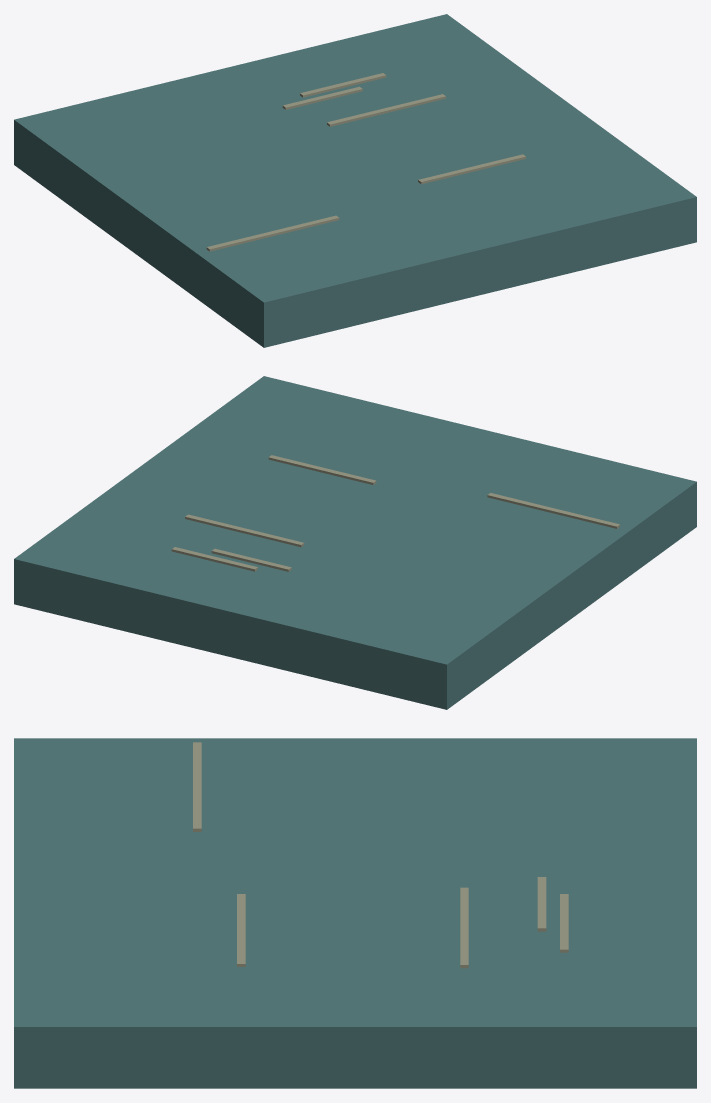
Rendered from ENV_Tile_03_River.glb.
3 views of the same model, one above another, from view 1: azimuth 30°, elevation 25°; view 2: azimuth 150°, elevation 25°; view 3: azimuth 270°, elevation 25° (orthographic). The views are drawn at different scales.
Parts seen in each view (by area): view 1: ENV_Tile_03_River; view 2: ENV_Tile_03_River; view 3: ENV_Tile_03_River.
Boxes of the visible parts, <box> form: ENV_Tile_03_River: <box>14,14,696,347</box>; ENV_Tile_03_River: <box>14,376,696,709</box>; ENV_Tile_03_River: <box>14,738,696,1088</box>.
Bounding box in the file's own units: 2 × 0.211 × 2.
